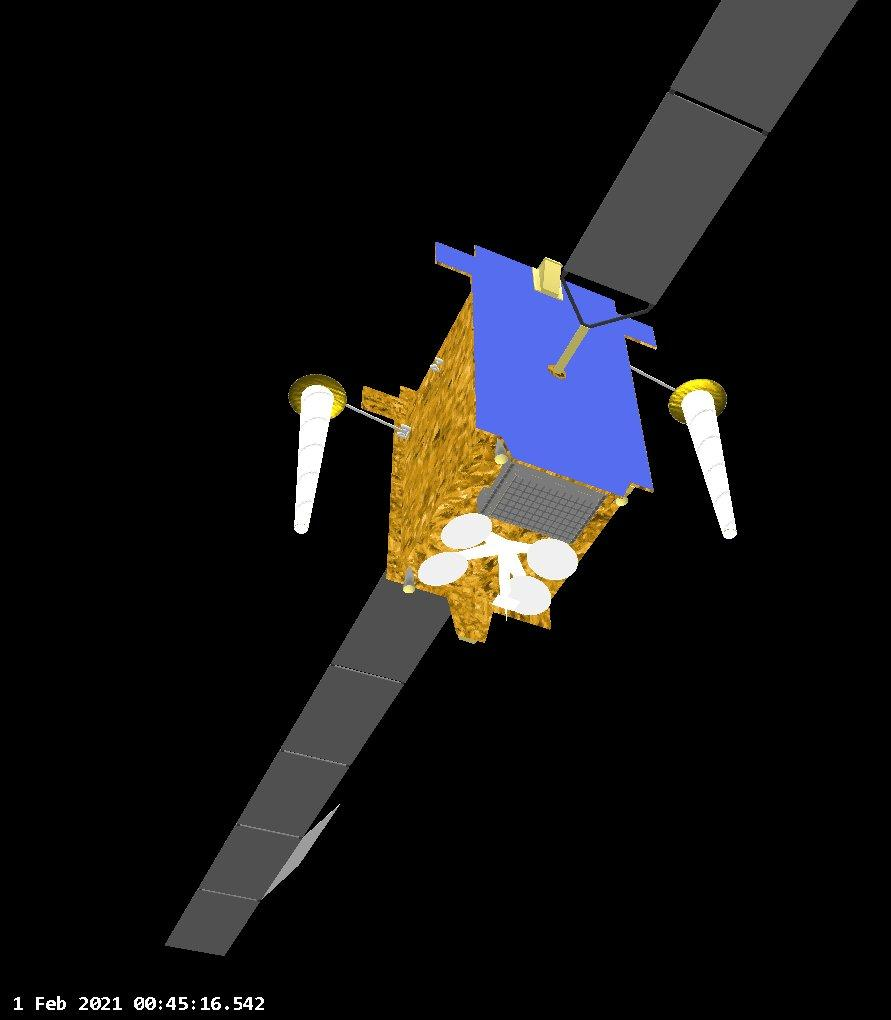antenna: (664, 377, 741, 545), (284, 367, 347, 538), (416, 547, 473, 594), (496, 576, 555, 621), (526, 531, 578, 582), (437, 509, 497, 551)
body: (362, 238, 664, 644)
solar: (156, 544, 465, 958), (556, 0, 864, 307)
